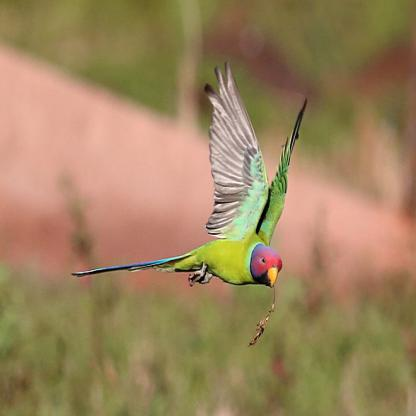Burung: (70, 60, 308, 346)
